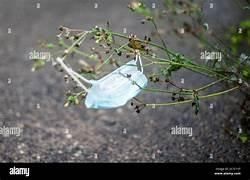Mask: (57, 55, 147, 108), (85, 60, 147, 108)
